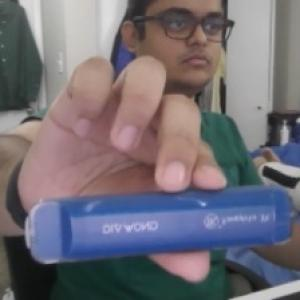Diamond-E-Ciggirate: (23, 182, 295, 266)
